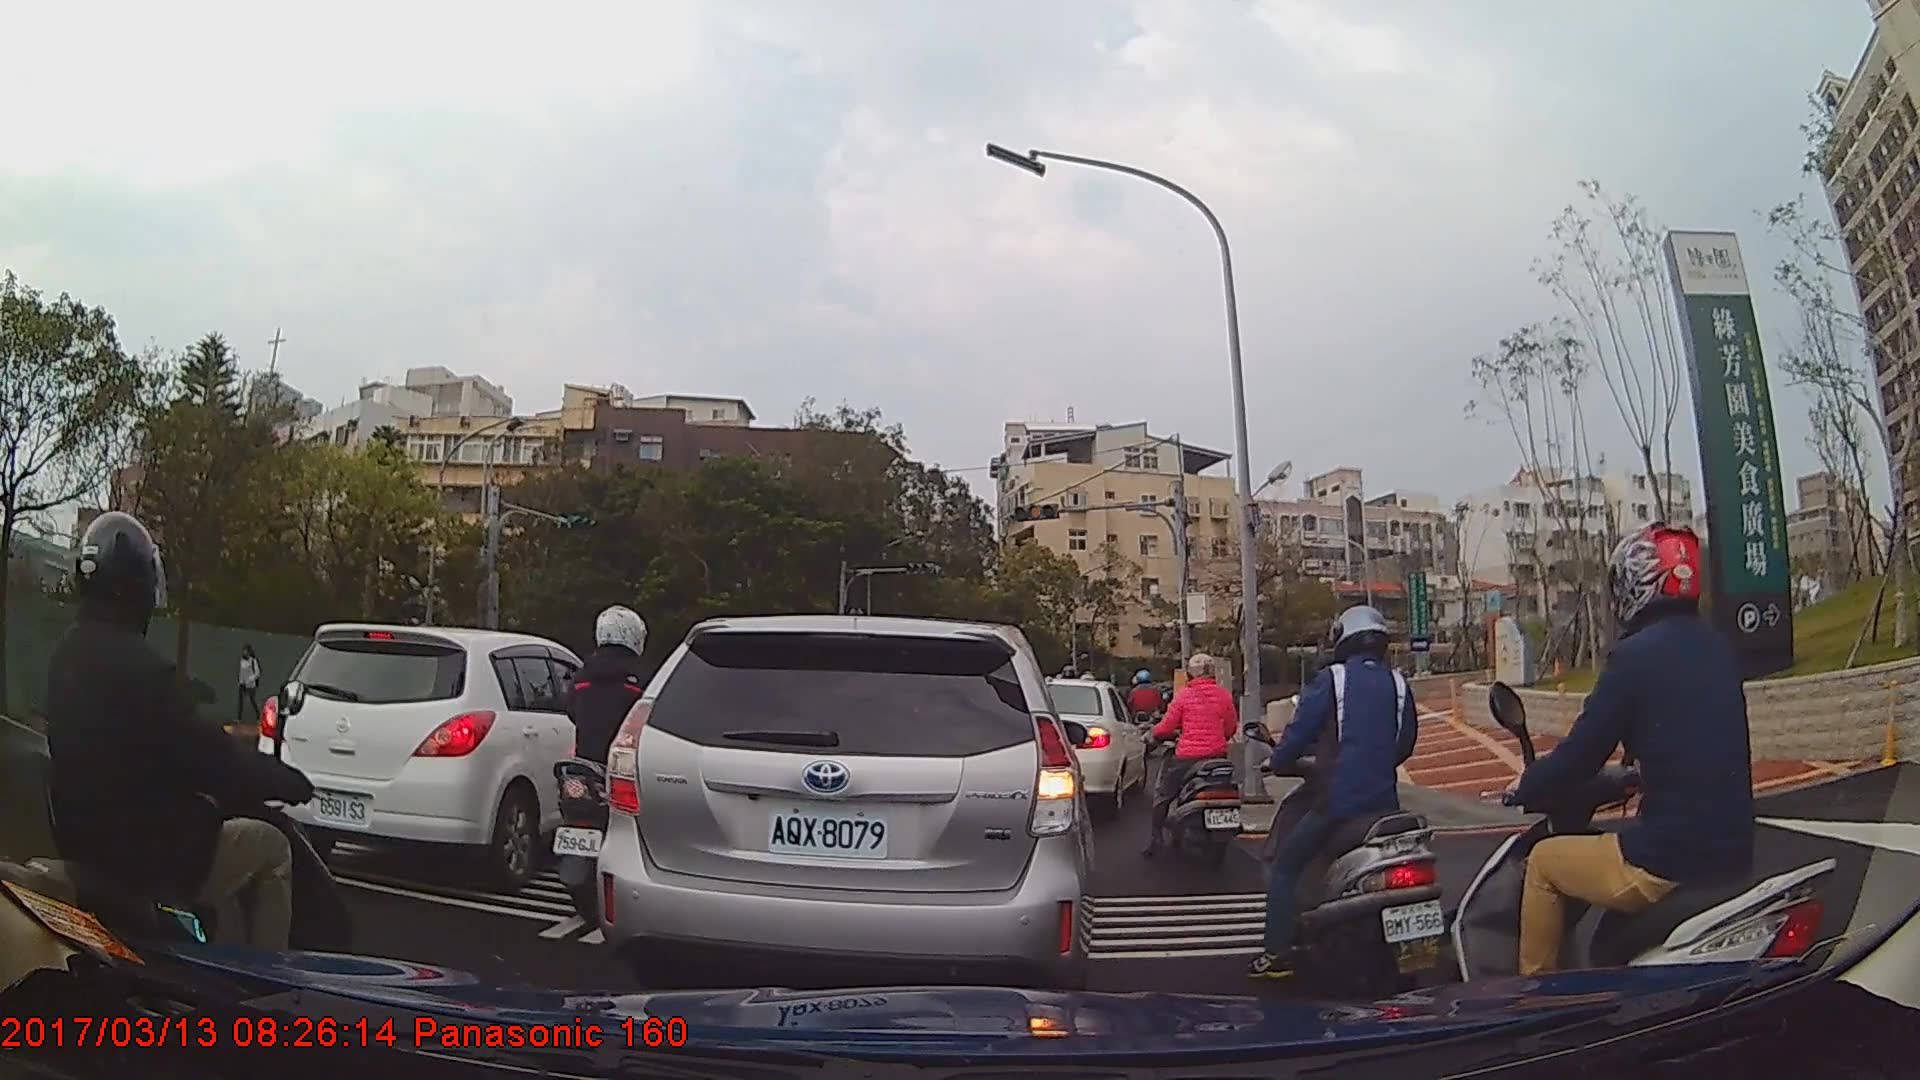pedestrian: (230, 645, 265, 724)
rider: (1447, 524, 1841, 1058), (1, 509, 369, 1080), (1242, 605, 1448, 1000), (546, 605, 690, 924), (1138, 652, 1246, 865), (1125, 669, 1167, 763)
vehicle: (603, 607, 1096, 985), (257, 622, 646, 884), (1041, 676, 1148, 816)
